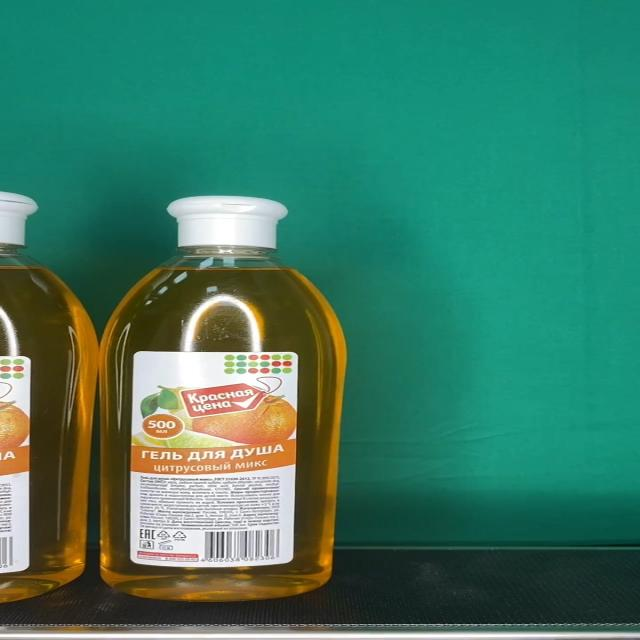Bottle: (100, 195, 346, 602)
Cap: (168, 196, 289, 249)
